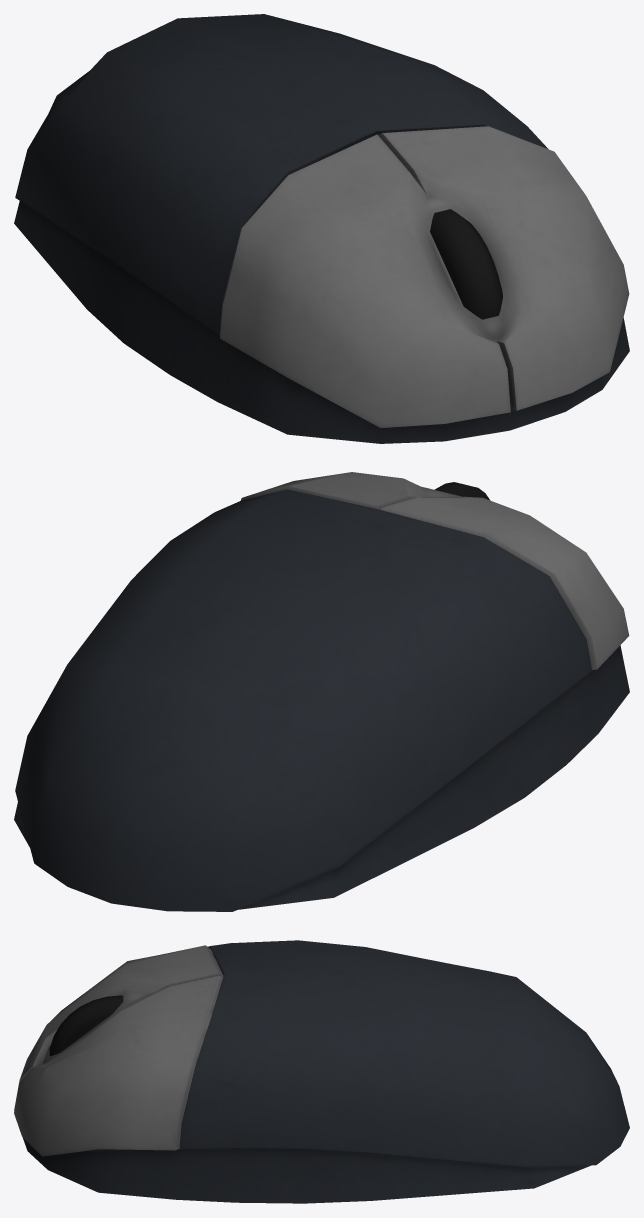
The model's file is Mouse.fbx.
3 views of the same model, one above another, from view 1: azimuth 30°, elevation 25°; view 2: azimuth 150°, elevation 25°; view 3: azimuth 270°, elevation 25° (orthographic). The views are drawn at different scales.
Parts seen in each view (by area): view 1: Mouse; view 2: Mouse; view 3: Mouse.
Boxes of the visible parts, x1,y1,x2,y2 form: Mouse: (14, 14, 629, 443); Mouse: (14, 472, 629, 911); Mouse: (14, 940, 629, 1203).
Bounding box in the file's own units: 9.7 × 2.72 × 5.59.
